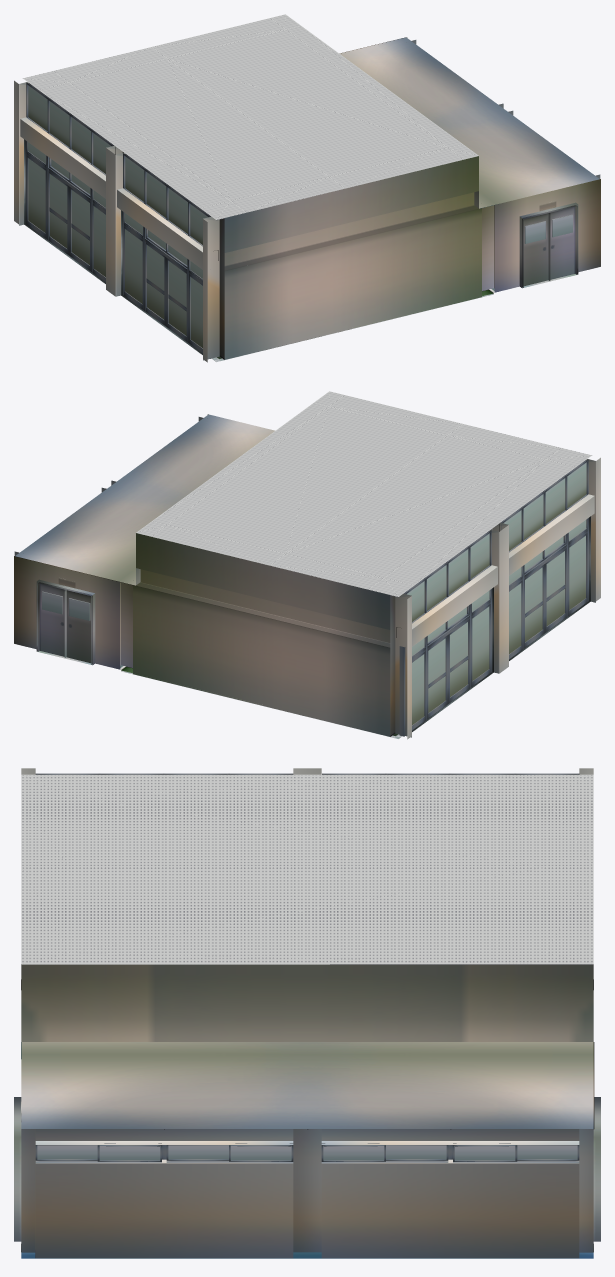
Rendered from JpsEntrance.FBX.
3 renders of one model, top to bottom at view 1: azimuth 30°, elevation 25°; view 2: azimuth 150°, elevation 25°; view 3: azimuth 270°, elevation 25°, orthographic. The views are drawn at different scales.
Visible parts, largest first — view 1: Ent_ceiling000, Ent_wallB000, Ent_wallL000, Ent_Wceiling00, Ent_Wwall_exitB00, Ent_WdoorL_exitB00, Ent_WdoorR_exitB00, Ent_wallL_doorRR, Ent_wallL_doorRL, Ent_wallL_doorLL, Ent_wallL_doorLR, Ent_WwallL; view 2: Ent_ceiling000, Ent_wallF000, Ent_wallL000, Ent_Wceiling00, Ent_Wwall_exitA00, Ent_WdoorL_exitA00, Ent_WdoorR_exitA00, Ent_wallL_doorRL, Ent_wallL_doorLL, Ent_wallL_doorRR, Ent_wallL_doorLR, Ent_WwallL; view 3: Ent_ceiling000, Ent_WwallR, Ent_Wceiling00, Ent_wallR000, Ent_wallL000, Ent_Wwall_exitB00, Ent_Wwall_exitA00, Ent_Wfloor.
Boxes of the visible parts, x1=… form: Ent_ceiling000: x1=23, y1=14, x2=478, y2=220; Ent_wallB000: x1=224, y1=156, x2=481, y2=359; Ent_wallL000: x1=14, y1=80, x2=224, y2=362; Ent_Wceiling00: x1=339, y1=37, x2=599, y2=208; Ent_Wwall_exitB00: x1=494, y1=179, x2=600, y2=292; Ent_WdoorL_exitB00: x1=522, y1=213, x2=550, y2=287; Ent_WdoorR_exitB00: x1=550, y1=206, x2=577, y2=279; Ent_wallL_doorRR: x1=48, y1=171, x2=69, y2=255; Ent_wallL_doorRL: x1=69, y1=186, x2=90, y2=270; Ent_wallL_doorLL: x1=166, y1=257, x2=187, y2=341; Ent_wallL_doorLR: x1=145, y1=242, x2=165, y2=325; Ent_WwallL: x1=482, y1=205, x2=494, y2=290; Ent_ceiling000: x1=136, y1=391, x2=591, y2=597; Ent_wallF000: x1=133, y1=533, x2=390, y2=736; Ent_wallL000: x1=390, y1=457, x2=600, y2=739; Ent_Wceiling00: x1=15, y1=414, x2=274, y2=585; Ent_Wwall_exitA00: x1=14, y1=556, x2=120, y2=669; Ent_WdoorL_exitA00: x1=64, y1=590, x2=92, y2=664; Ent_WdoorR_exitA00: x1=37, y1=583, x2=64, y2=656; Ent_wallL_doorRL: x1=448, y1=619, x2=469, y2=703; Ent_wallL_doorLL: x1=545, y1=548, x2=566, y2=632; Ent_wallL_doorRR: x1=427, y1=635, x2=447, y2=718; Ent_wallL_doorLR: x1=524, y1=564, x2=544, y2=647; Ent_WwallL: x1=120, y1=582, x2=132, y2=667; Ent_ceiling000: x1=21, y1=774, x2=593, y2=964; Ent_WwallR: x1=21, y1=1129, x2=593, y2=1258; Ent_Wceiling00: x1=21, y1=1042, x2=594, y2=1129; Ent_wallR000: x1=21, y1=964, x2=593, y2=1041; Ent_wallL000: x1=21, y1=768, x2=593, y2=774; Ent_Wwall_exitB00: x1=14, y1=1097, x2=21, y2=1241; Ent_Wwall_exitA00: x1=593, y1=1097, x2=600, y2=1241; Ent_Wfloor: x1=21, y1=1252, x2=593, y2=1258.
Bounding box in the file's own units: 1421 × 486 × 1230.
